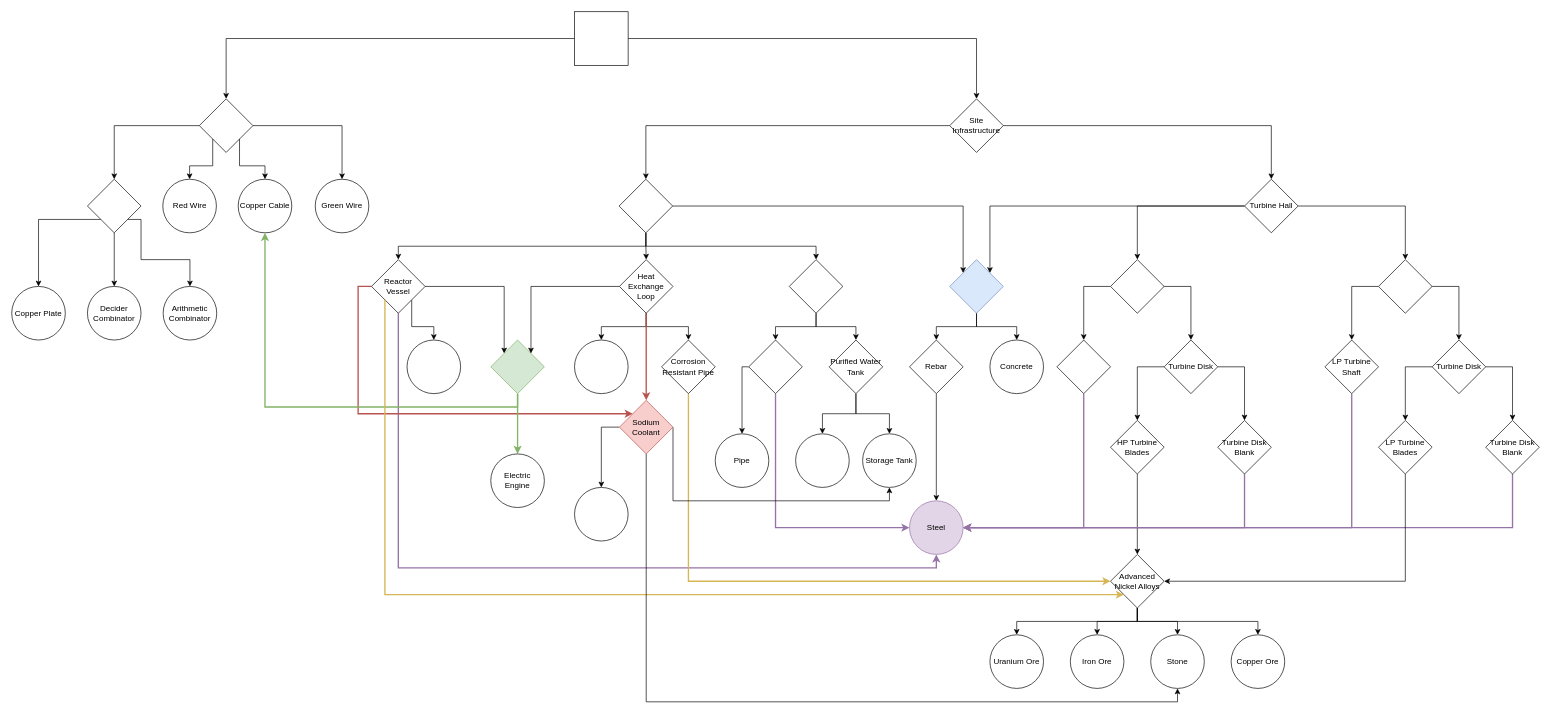
Image size: 1551x719. Some labels were removed from this diagram. The shapes that lost their labels are listed below. From the top down, each one's centre as x and y in pixels, then its label:
At (x=601, y=38): "LMR".
At (x=226, y=125): "Electric Grid Interface".
At (x=114, y=206): "Switchgear".
At (x=645, y=206): "Reactor Hall".
At (x=816, y=286): "Steam Loop".
At (x=976, y=286): "Structural Concrete".
At (x=1137, y=286): "High Pressure Turbine".
At (x=1405, y=286): "Low Pressure Turbine".
At (x=433, y=366): "Inserter".
At (x=517, y=366): "Electromagnetic Pump".
At (x=601, y=366): "Heat Exchangers".
At (x=775, y=366): "Steam Generator".
At (x=1083, y=366): "HP Turbine Shaft".
At (x=822, y=460): "Water".
At (x=601, y=514): "Light Oil".
